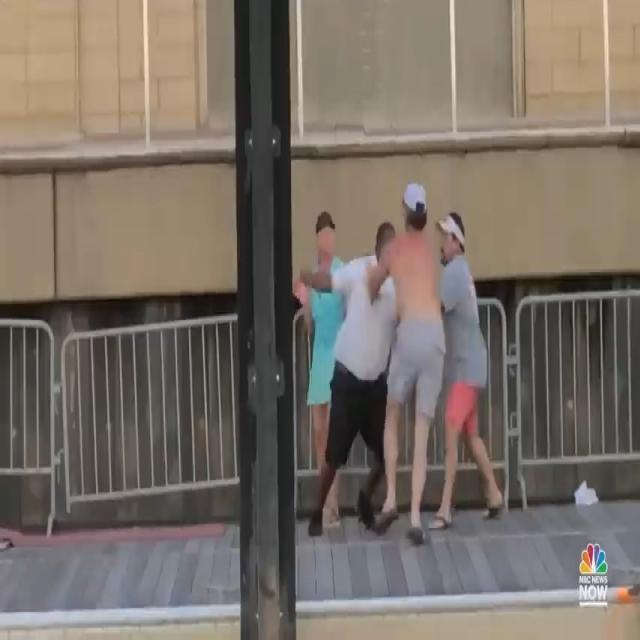fight: (294, 176, 514, 550)
